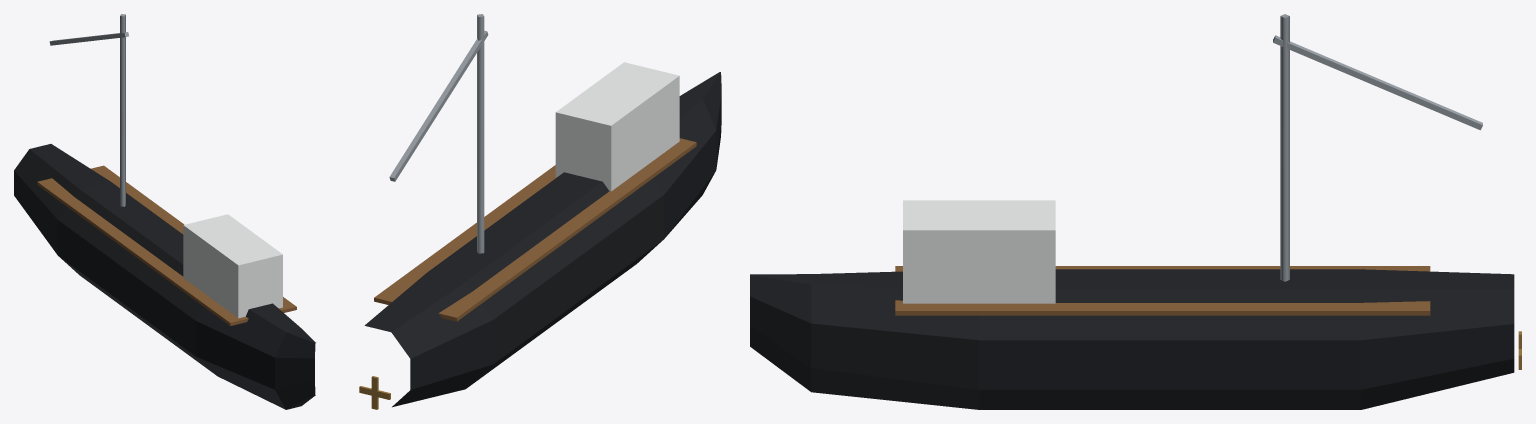
Rendered from veh_naval_fishing_a06.glb.
3 views of the same model, side by side, from view 1: azimuth 30°, elevation 25°; view 2: azimuth 150°, elevation 25°; view 3: azimuth 270°, elevation 25° (orthographic). The views are drawn at different scales.
Parts seen in each view (by area): view 1: body, crane; view 2: body, crane, propeller; view 3: body, crane.
Part boxes in pixels (box(x1,y1,x2,y2)): body: box(14, 14, 315, 409); crane: box(49, 32, 128, 45); body: box(364, 14, 721, 407); crane: box(389, 30, 488, 181); propeller: box(359, 376, 390, 409); body: box(750, 14, 1514, 409); crane: box(1273, 35, 1482, 130).
Size of what is drawn, in the model's own units: 1.98 by 6.98 by 12.73.
